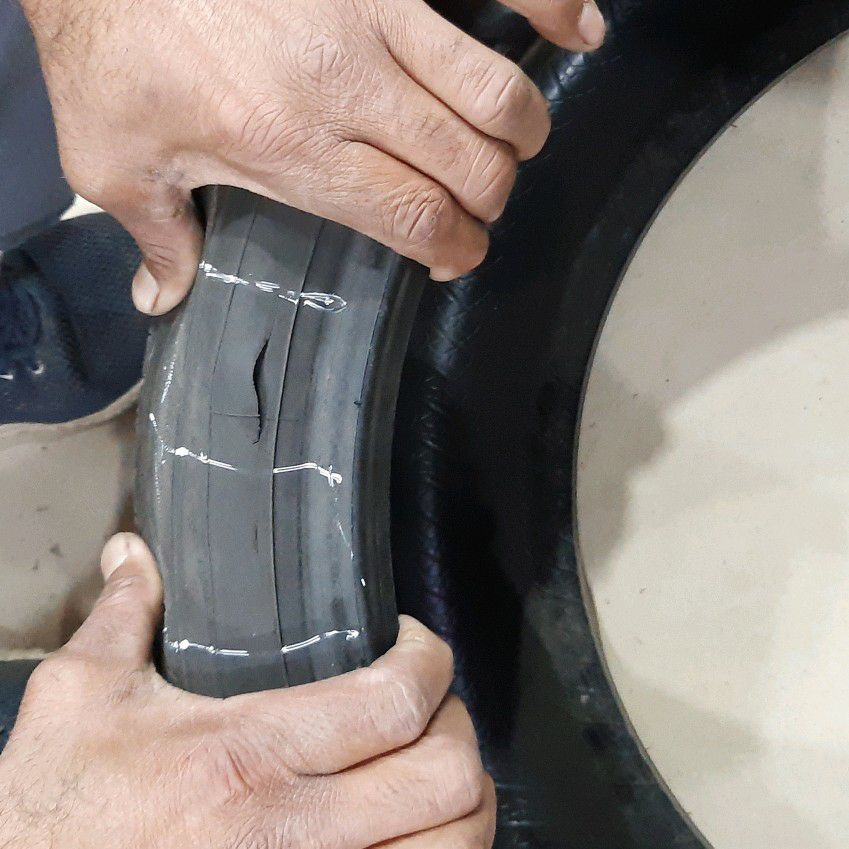cut: (249, 318, 279, 459)
